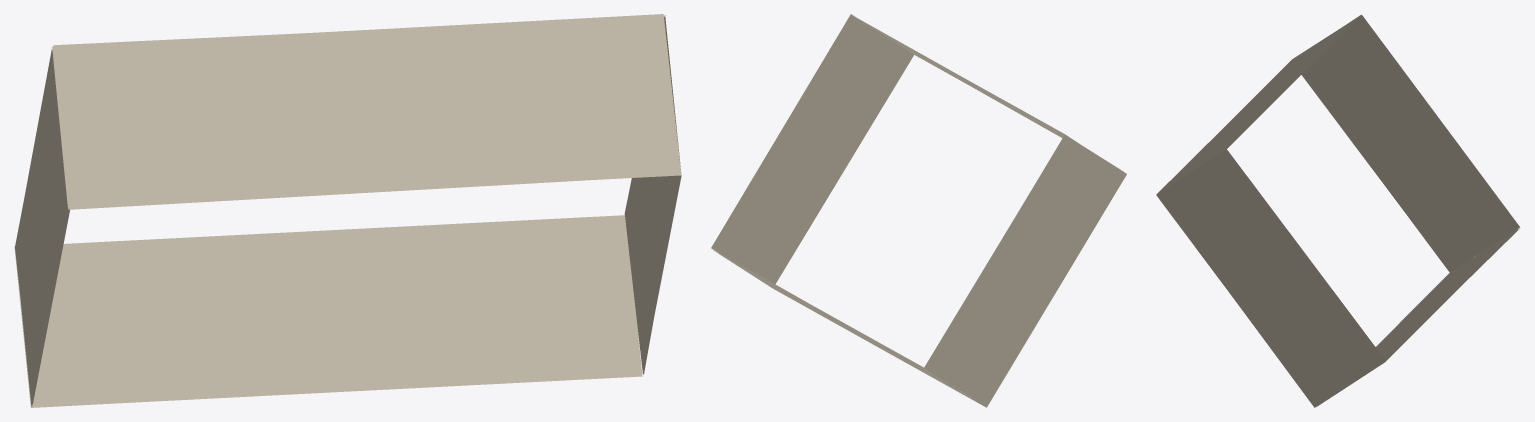
File: original-11.obj
The picture shows the model from 3 angles, left to right: view 1: azimuth 30°, elevation 25°; view 2: azimuth 150°, elevation 25°; view 3: azimuth 270°, elevation 25°; orthographic projection. The views are drawn at different scales.
Parts seen in each view (by area): view 1: #ID207; view 2: #ID207; view 3: #ID207.
Part boxes in pixels (box(x1,y1,x2,y2)): #ID207: box(14, 14, 681, 407); #ID207: box(711, 14, 1126, 407); #ID207: box(1156, 14, 1519, 407).
Bounding box in the file's own units: 0.0487 × 0.0314 × 0.0426.
